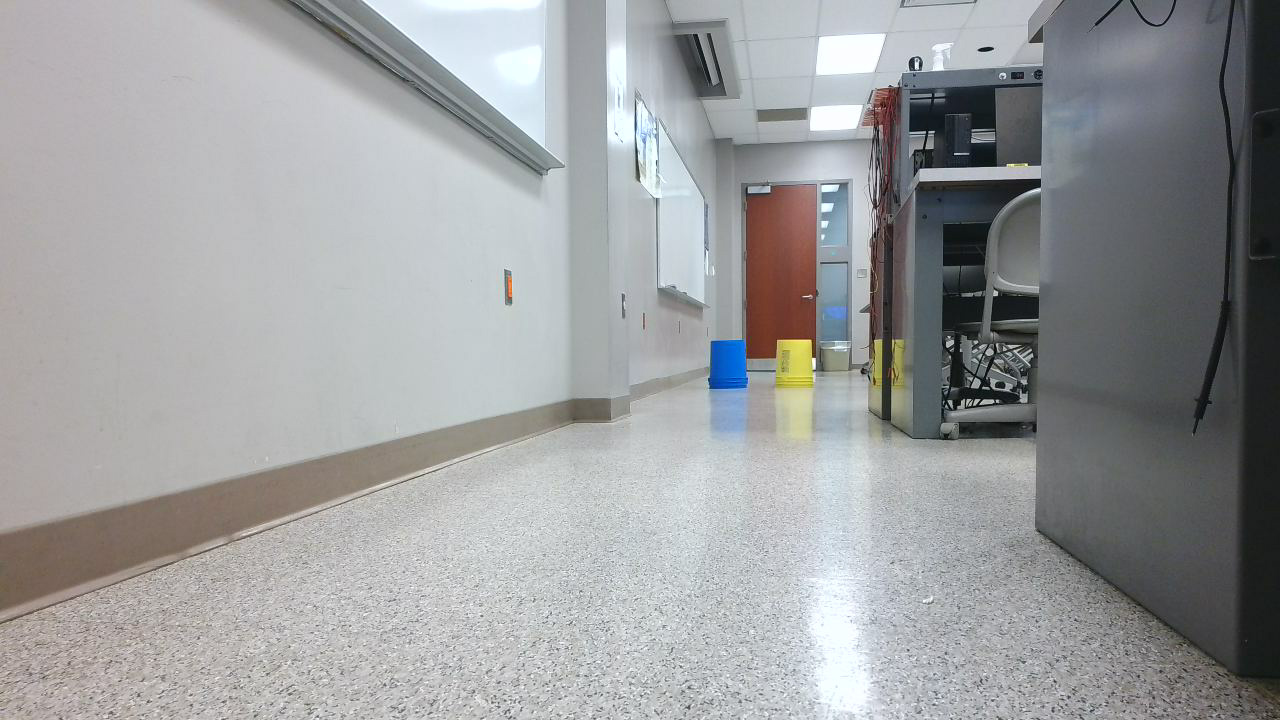blue_bucket: (709, 341, 758, 399)
yellow_bucket: (774, 342, 826, 398)
